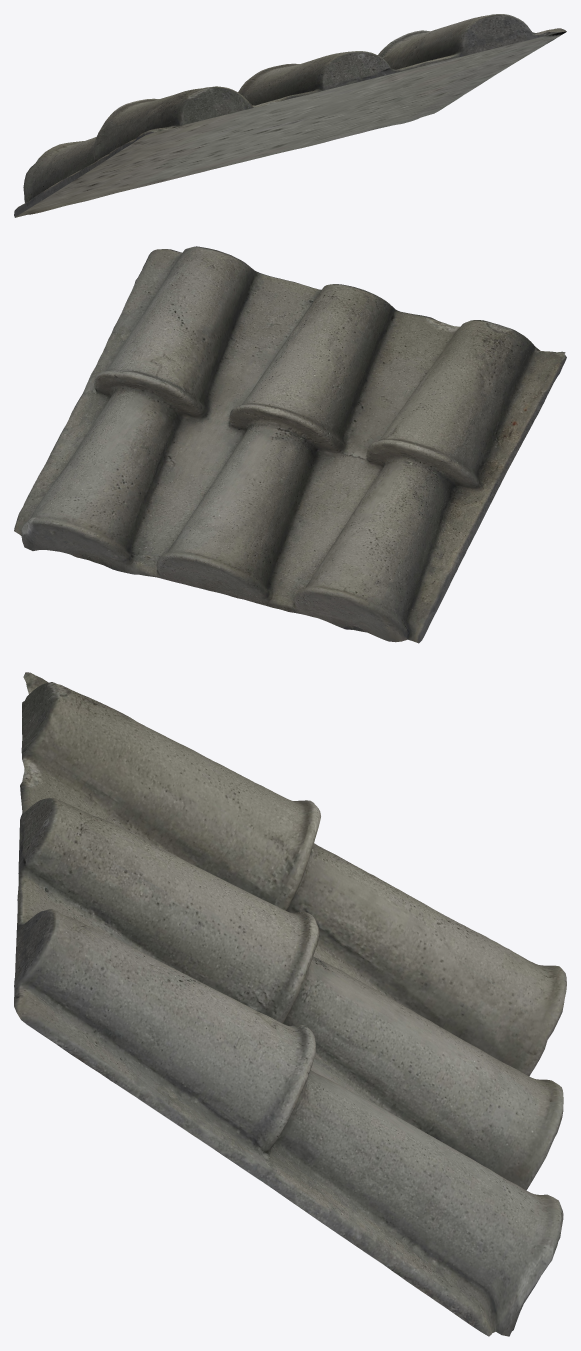
The model's file is Retopo_3DModel_mesh.016.glb.
3 renders of one model, top to bottom at view 1: azimuth 30°, elevation 25°; view 2: azimuth 150°, elevation 25°; view 3: azimuth 270°, elevation 25°, orthographic. The views are drawn at different scales.
Parts seen in each view (by area): view 1: Retopo_3DModel_mesh.016; view 2: Retopo_3DModel_mesh.016; view 3: Retopo_3DModel_mesh.016.
Part boxes in pixels (x1,y1,x2,y2): Retopo_3DModel_mesh.016: [14, 14, 566, 217]; Retopo_3DModel_mesh.016: [14, 246, 566, 643]; Retopo_3DModel_mesh.016: [14, 672, 566, 1336].
Bounding box in the file's own units: 4.91 × 2.43 × 3.24.
1 material, 1 textured.
